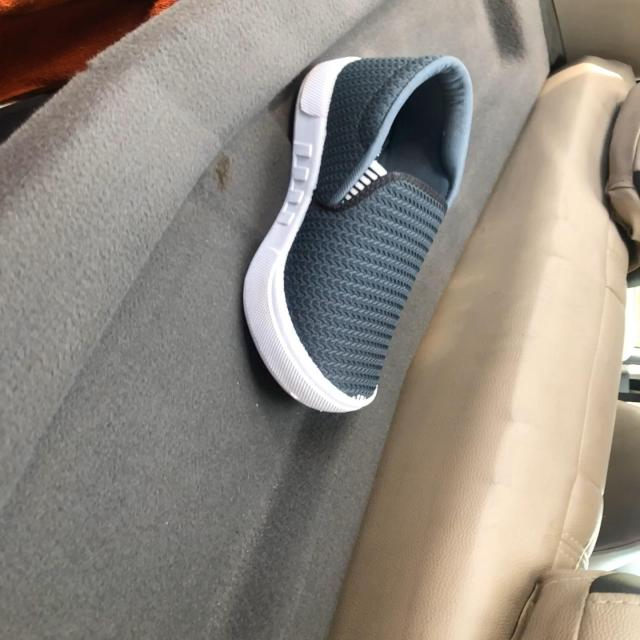shoe: (241, 55, 475, 416)
